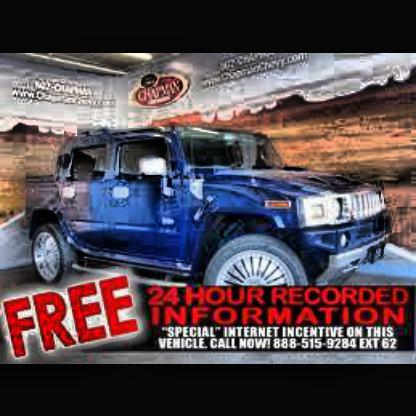HUMMER H2 SUT Crew Cab 2009: (24, 119, 393, 287)
